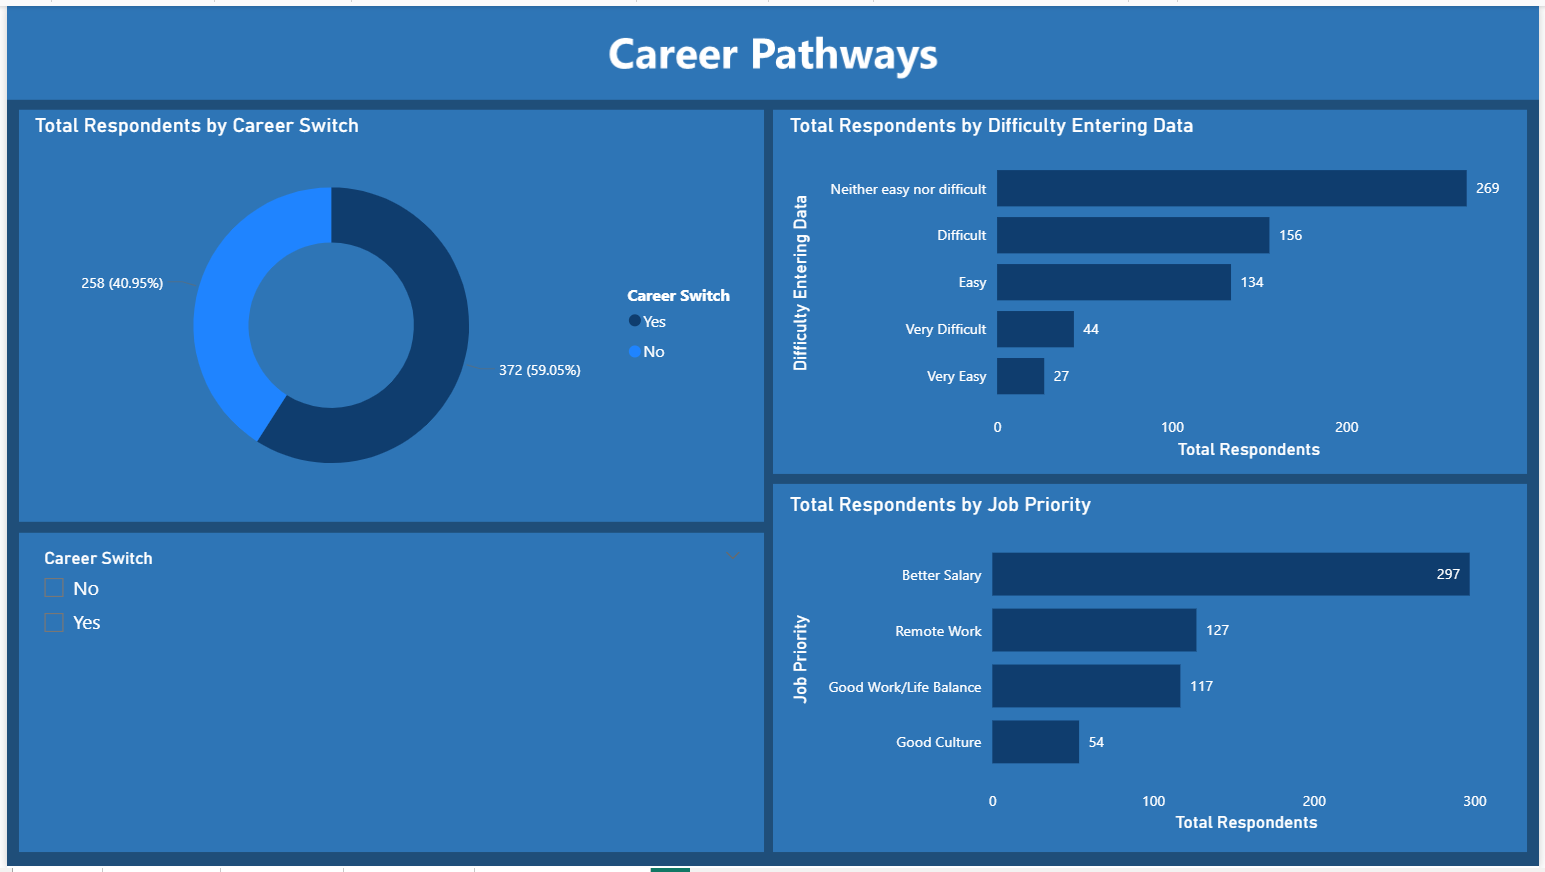

Layout of this report page (visuals, bound fields, positions):
{"tool":"powerbi","page":{"name":"Career Pathways","canvas":[1280,720],"ordinal":3},"visuals":[{"type":"donutChart","fields":{"Category":["Data Professional Survey.Career Switch"],"Y":["Data Professional Survey.Total Respondents"]},"box":[18.5,89.5,606.9,335.6],"z":0},{"type":"clusteredBarChart","fields":{"Category":["Data Professional Survey.Difficulty Entering Data"],"Y":["Data Professional Survey.Total Respondents"]},"box":[648.8,89.5,613.7,293.7],"z":1000},{"type":"clusteredBarChart","fields":{"Category":["Data Professional Survey.Job Priority"],"Y":["Data Professional Survey.Total Respondents"]},"box":[648.8,405.6,613.7,288.9],"z":2000},{"type":"slicer","fields":{"Values":["Data Professional Survey.Career Switch"]},"box":[18.5,447.4,606.9,247.1],"z":3000}]}

Visuals, with their boxes in screenshot pixels (x1, y1, x2, y2), scaled from the page's 1280x720 canvas onto the 1545x872 screenshot:
donutChart - Data Professional Survey.Career Switch x Data Professional Survey.Total Respondents: (left=22, top=108, right=755, bottom=515)
clusteredBarChart - Data Professional Survey.Difficulty Entering Data x Data Professional Survey.Total Respondents: (left=783, top=108, right=1524, bottom=464)
clusteredBarChart - Data Professional Survey.Job Priority x Data Professional Survey.Total Respondents: (left=783, top=491, right=1524, bottom=841)
slicer - Data Professional Survey.Career Switch: (left=22, top=542, right=755, bottom=841)
